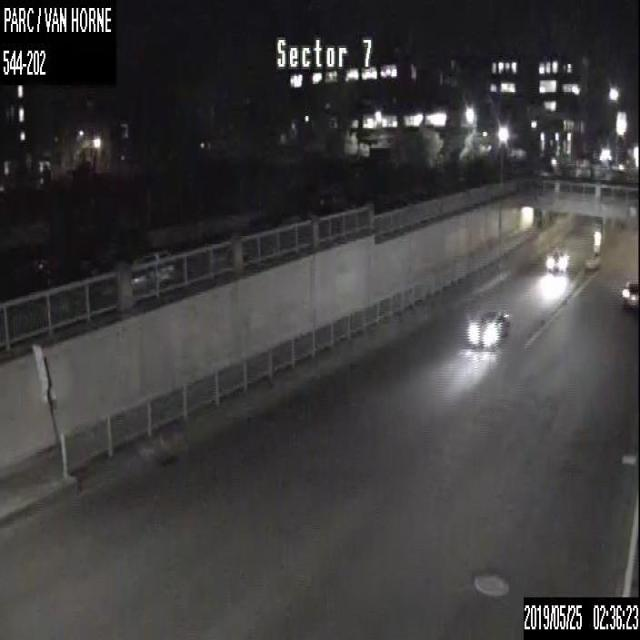vehicle: (469, 309, 509, 343), (546, 247, 568, 268), (623, 280, 639, 306)
